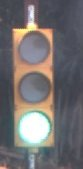Green: (8, 23, 55, 152)
